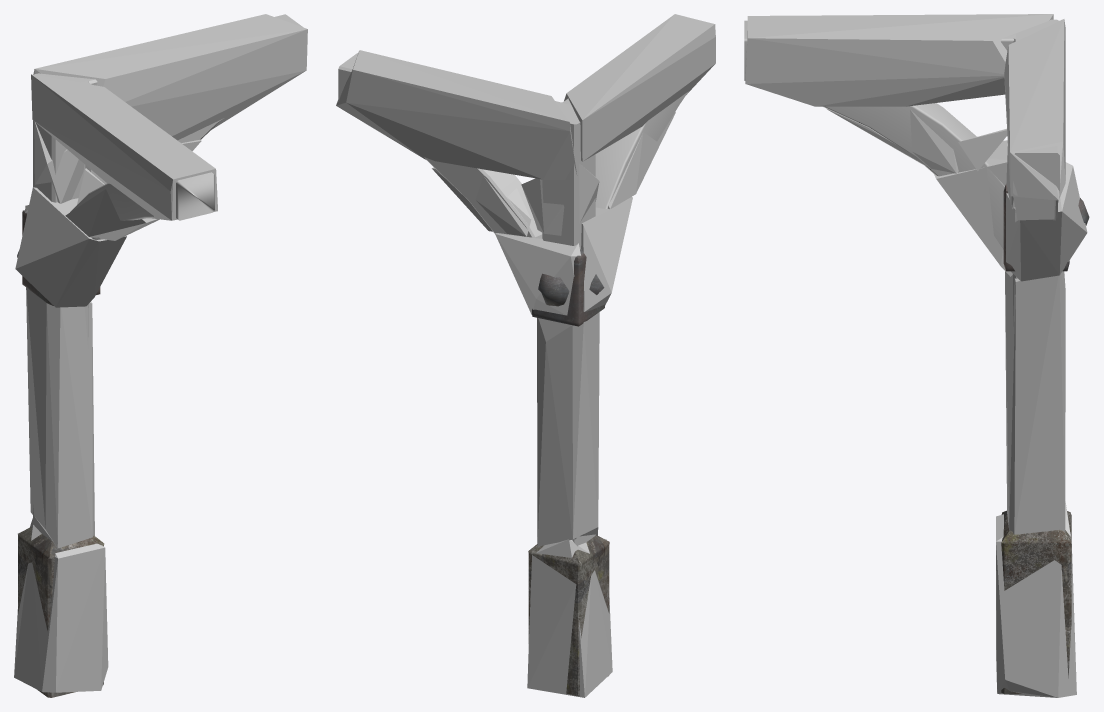
The model's file is SM_Beam_B_04.fbx.
The picture shows the model from 3 angles, left to right: view 1: azimuth 30°, elevation 25°; view 2: azimuth 150°, elevation 25°; view 3: azimuth 270°, elevation 25°; orthographic projection. The views are drawn at different scales.
Visible parts, largest first — view 1: SM_Beam_B_04_ConvexHulls, SM_Beam_B_04; view 2: SM_Beam_B_04_ConvexHulls, SM_Beam_B_04; view 3: SM_Beam_B_04_ConvexHulls, SM_Beam_B_04.
Part boxes in pixels (box(x1,y1,x2,y2)): SM_Beam_B_04_ConvexHulls: box(14, 14, 307, 692); SM_Beam_B_04: box(17, 14, 303, 697); SM_Beam_B_04_ConvexHulls: box(336, 14, 715, 697); SM_Beam_B_04: box(338, 53, 688, 696); SM_Beam_B_04_ConvexHulls: box(745, 14, 1087, 697); SM_Beam_B_04: box(744, 19, 1089, 693).
Bounding box in the file's own units: 197 × 193 × 404.
